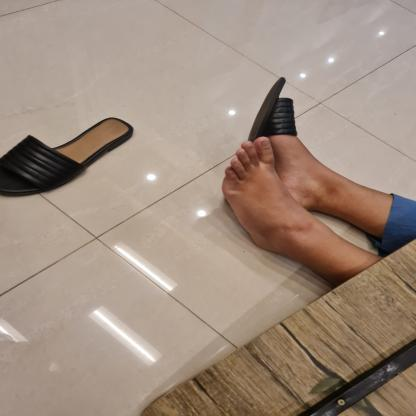leg: (208, 132, 388, 282), (244, 71, 391, 232)
